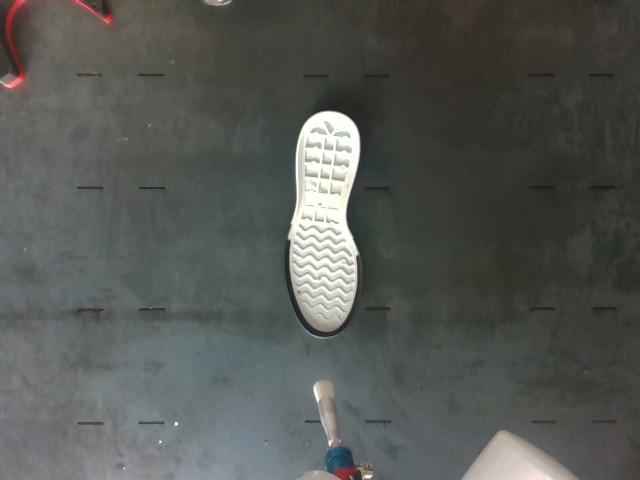shoes: (286, 112, 361, 337)
